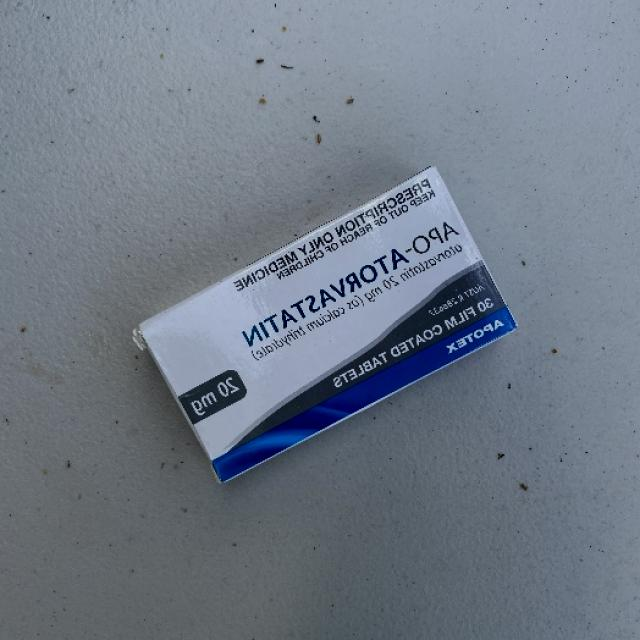obat: (110, 137, 534, 517)
